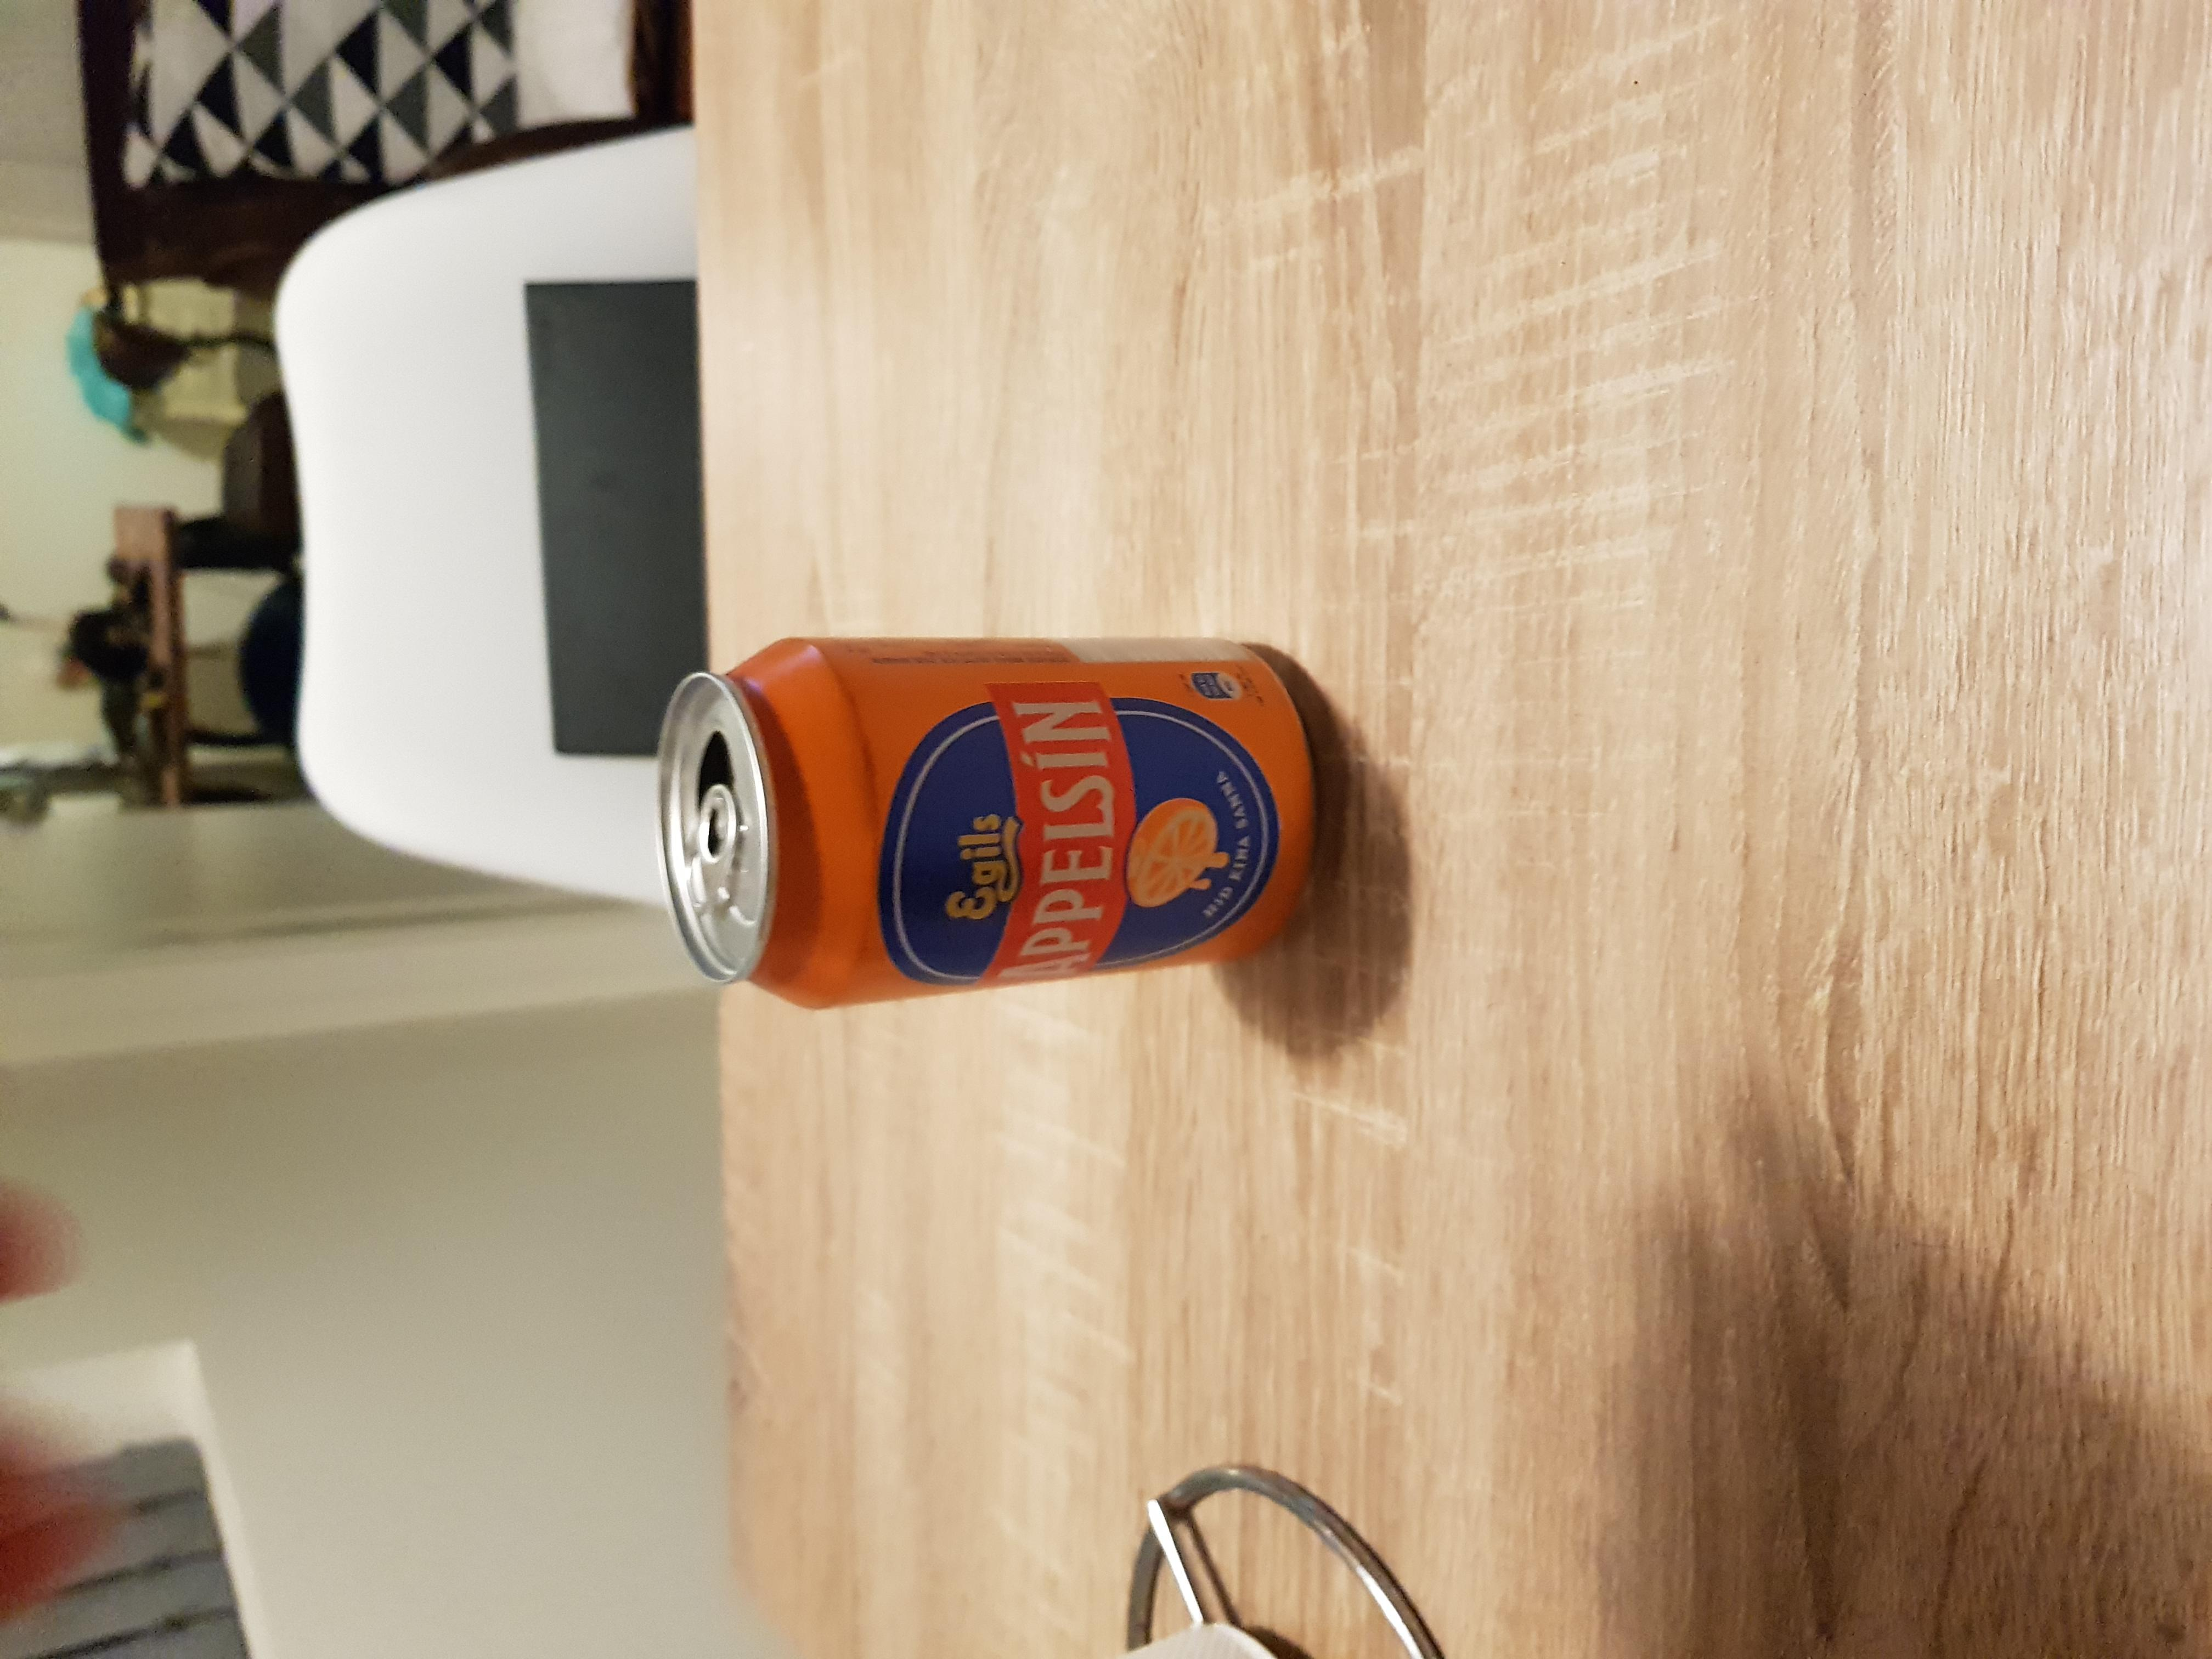can: (648, 636, 1325, 1004)
